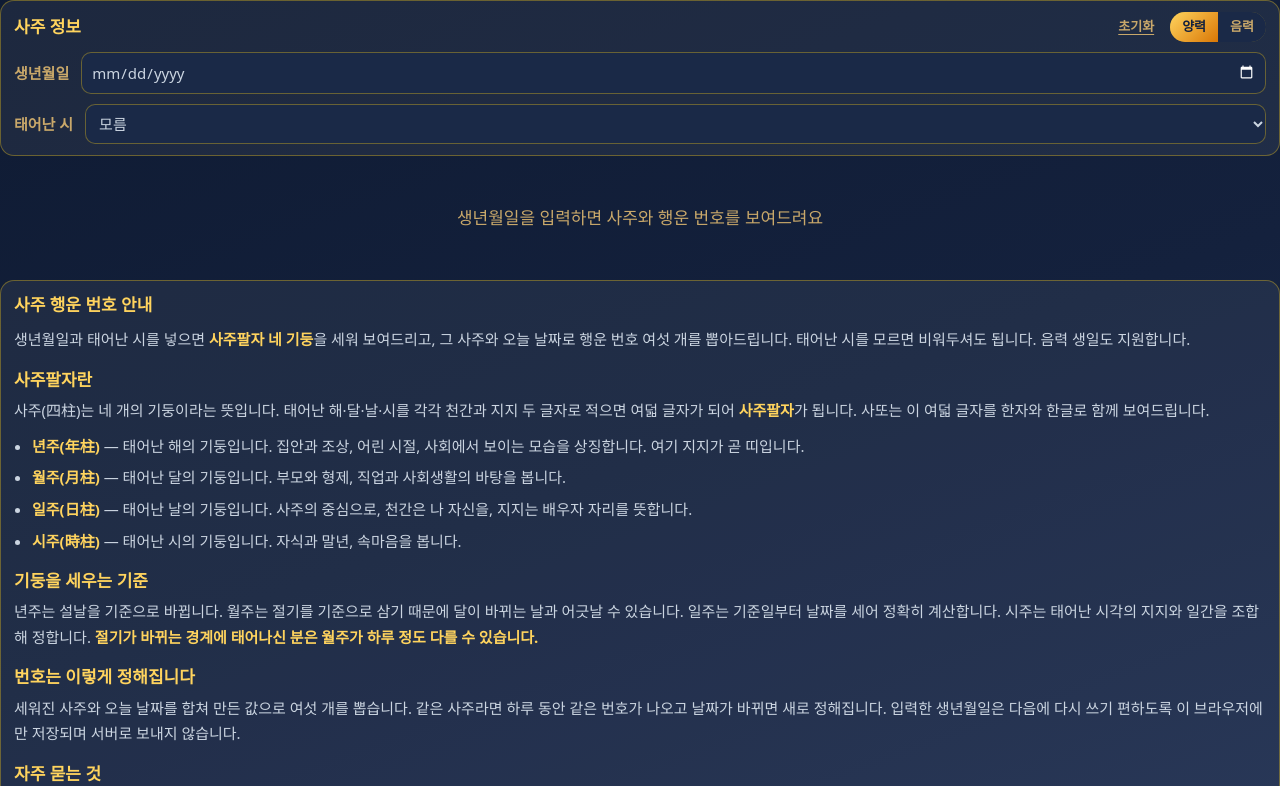
초기화 버튼이 입력과 결과를 비운다
Step 1. Type "1990-05-15" into the date field labelled "생년월일" → (674, 73), box [81,52,1266,94]
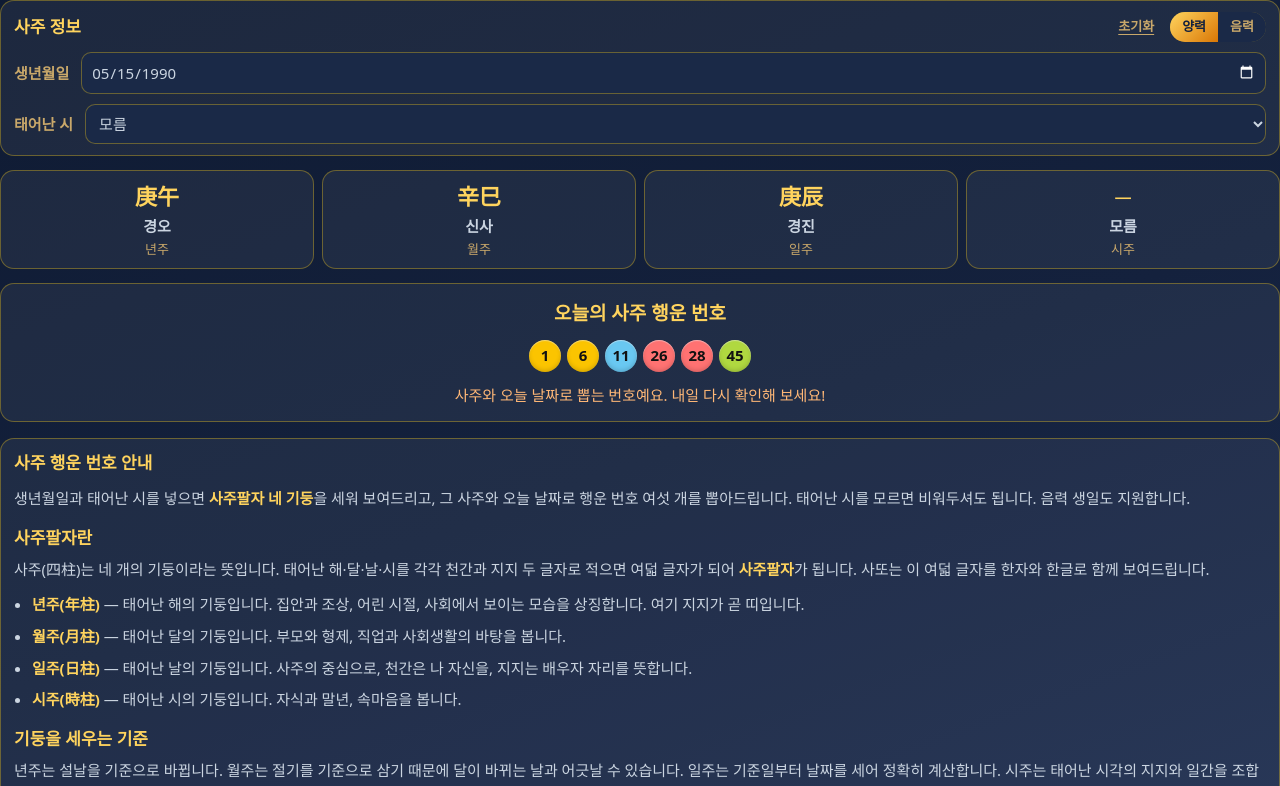
Check: the element with class "saju-pillars" is shown, box [0,170,1279,269]
Step 2. Click the button with aria-label "입력 초기화" → click(1136, 27), box [1110,13,1162,40]
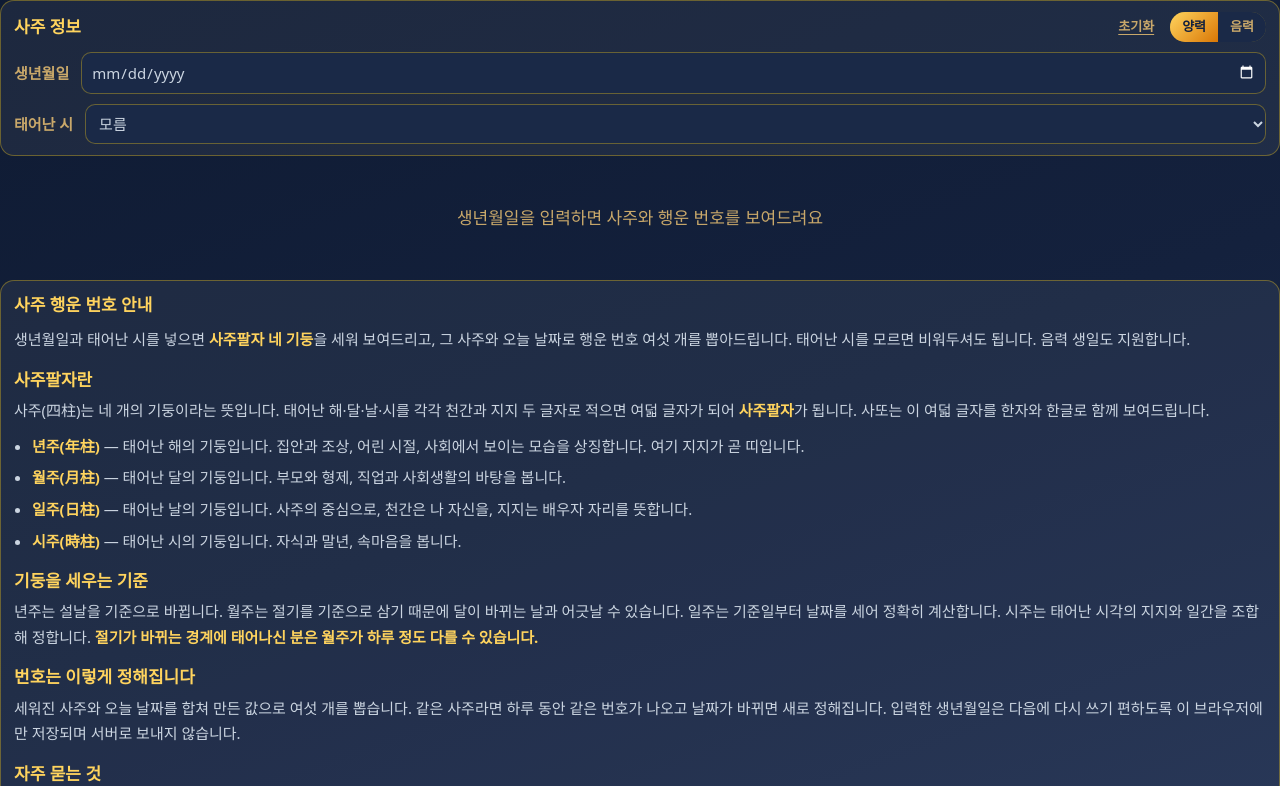
Check: the date field labelled "생년월일" is empty, box [81,52,1266,94]
Check: the element with class "saju-pillars" is gone
